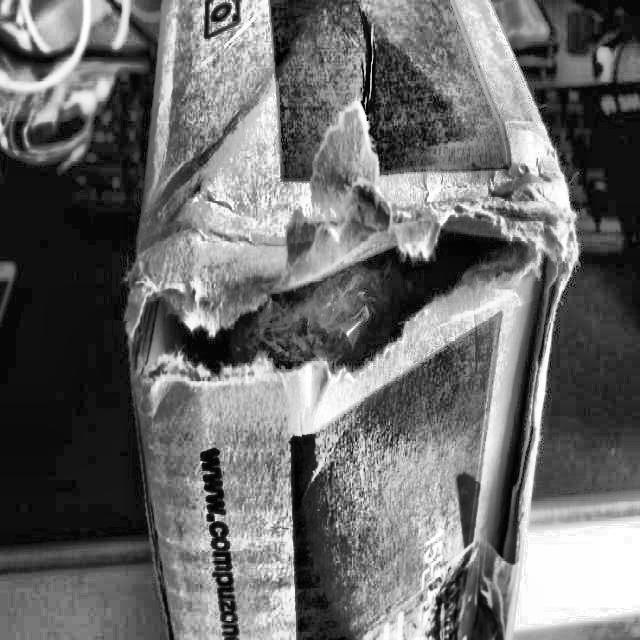box: (111, 0, 592, 639)
hole: (140, 206, 538, 390)
